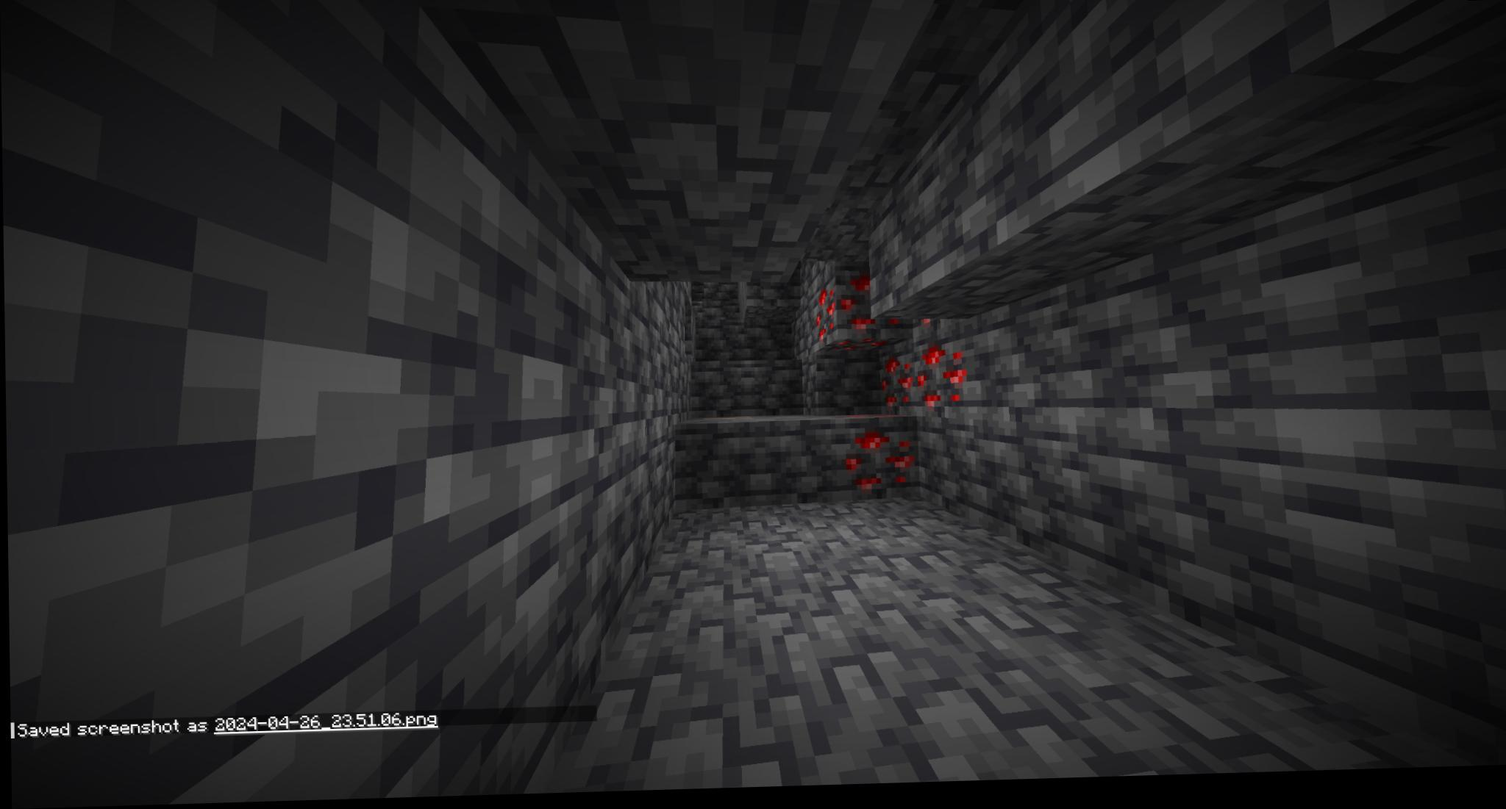redstone ore: (815, 274, 901, 359), (843, 429, 917, 506), (911, 355, 967, 416), (874, 361, 918, 418)
